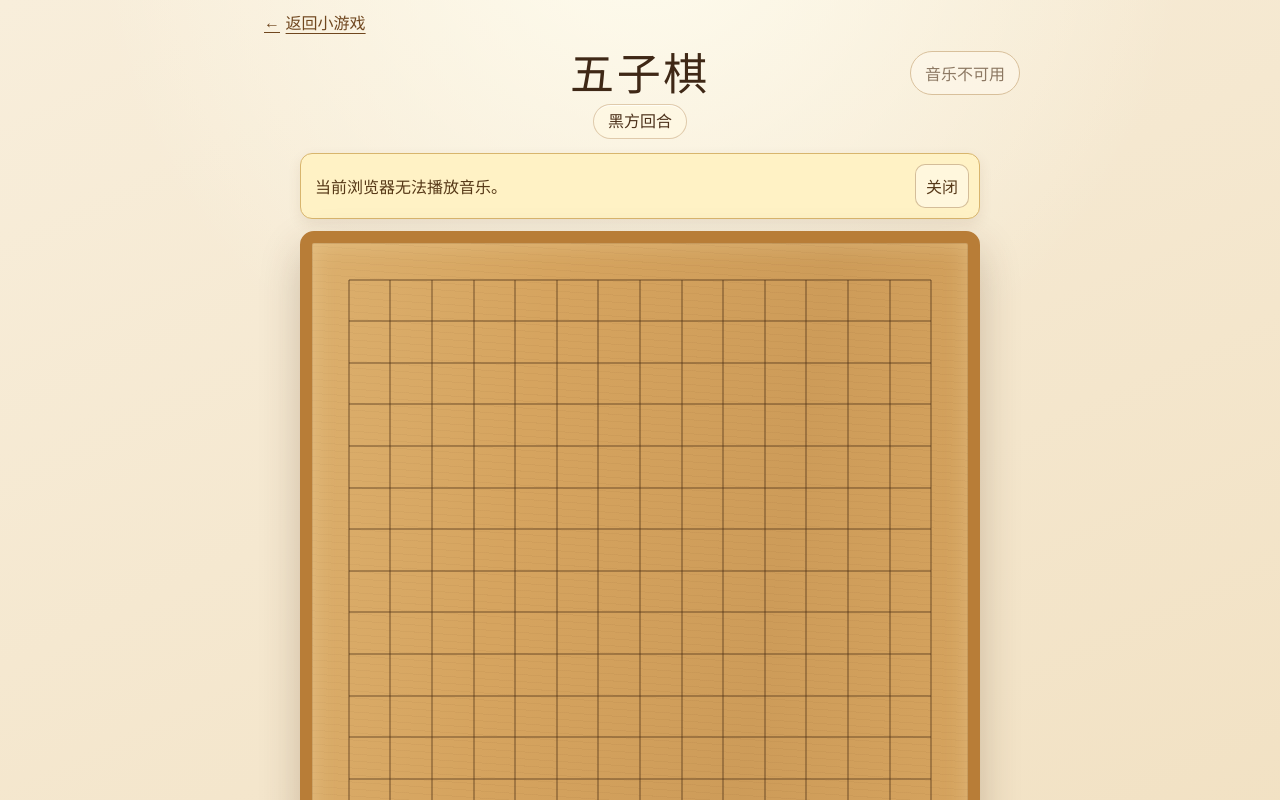
Test: GomokuPage › 音频不可用时提示并禁用音乐按钮，但棋局仍可继续
The width and height of the screenshot is (1280, 800).
Expected: the text "当前浏览器无法播放音乐。" is shown, [315,174,507,198]
Expected: the button "音乐不可用" is disabled, [910,51,1020,95]
What coordinates should you click on to do the following:
click the button named "第 8 行第 8 列，空位"
I would click on:
 (640, 571)
Its box is [619,550,661,592].
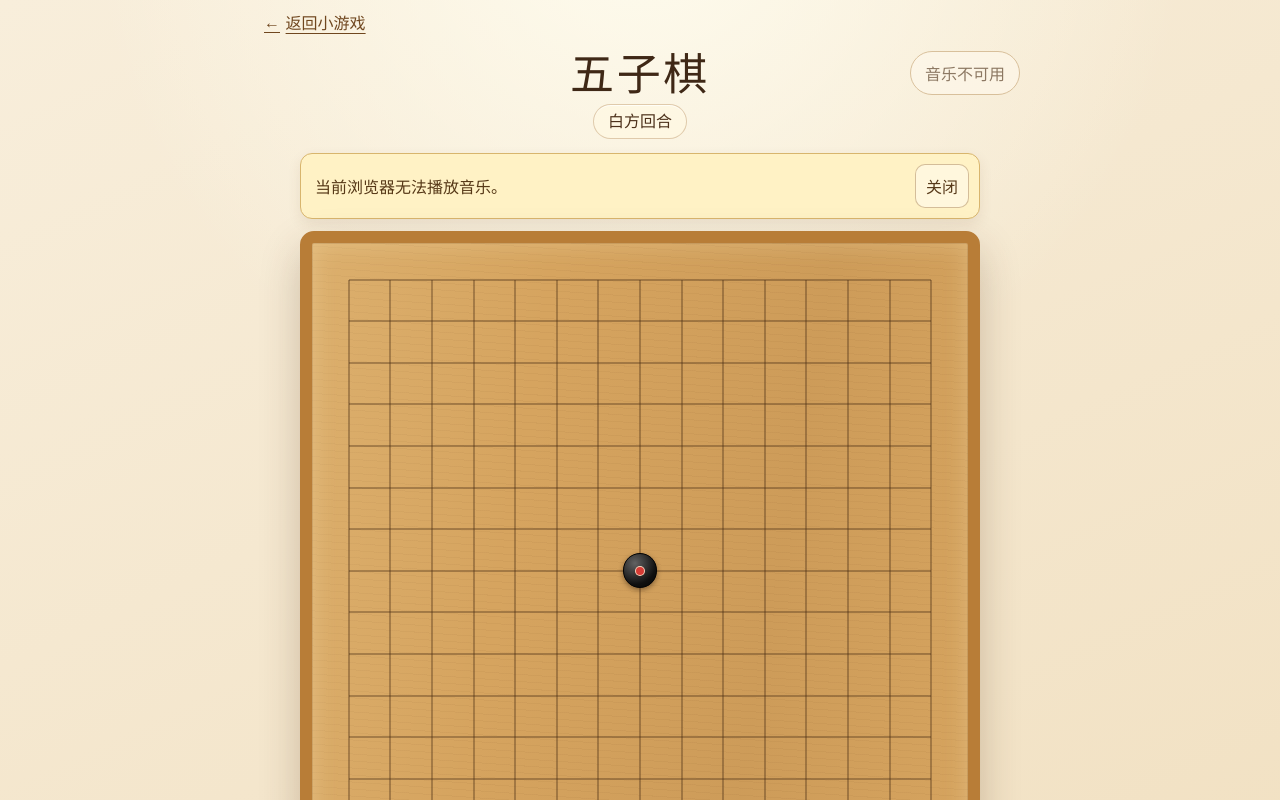
Result: the button named "第 8 行第 8 列，黑棋，最后一步" is disabled at [619,550,661,592]
Result: the text "白方回合" is shown at [593,104,687,139]
